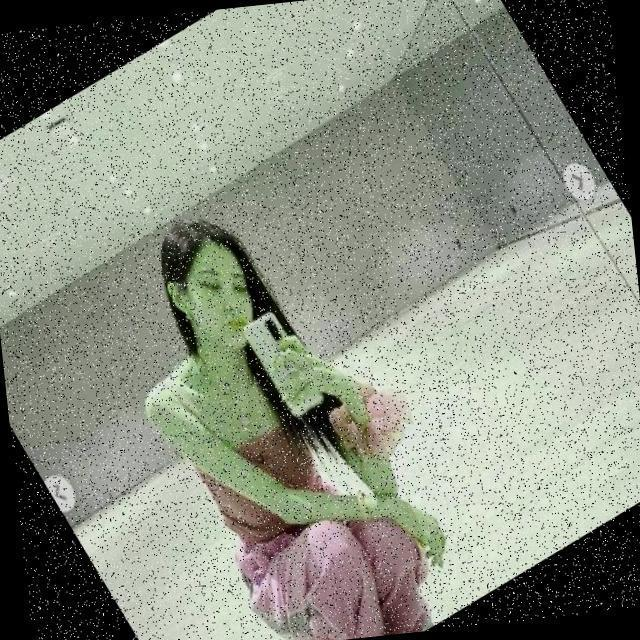phone: (238, 302, 328, 422)
